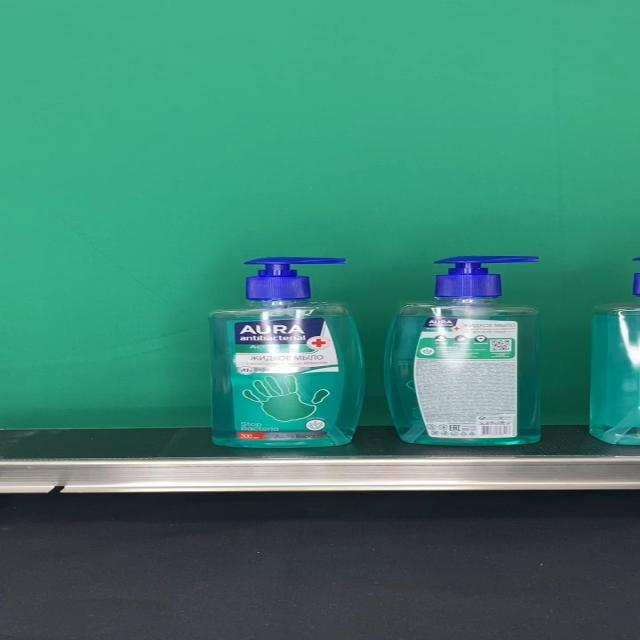Bottle: (206, 256, 364, 448), (385, 255, 541, 446)
Cap: (243, 257, 348, 299), (433, 256, 539, 296)
